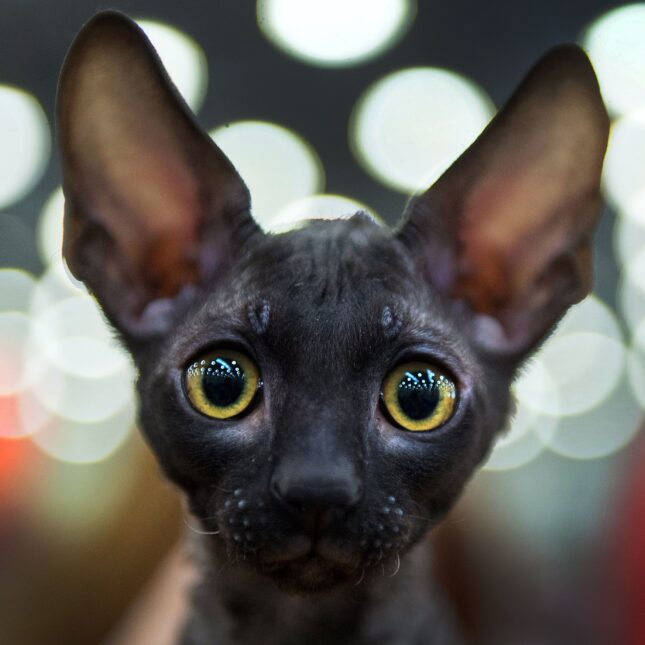Cat: (48, 7, 622, 645)
